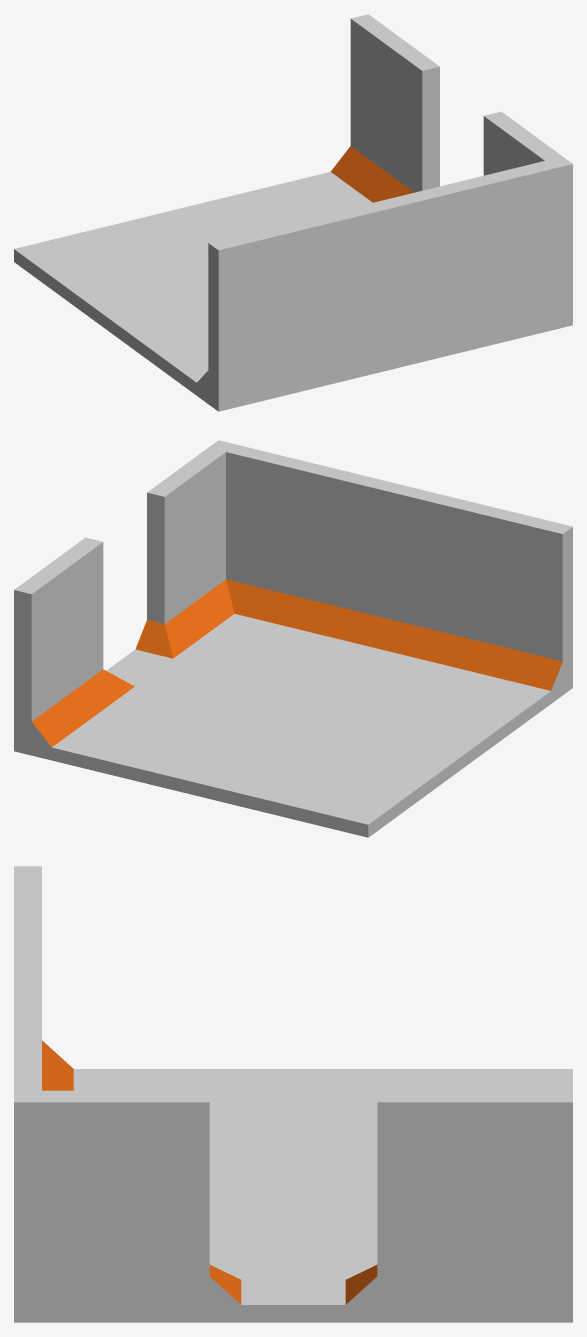
File: 2-wall-1-Door-L.fbx
3 renders of one model, top to bottom at view 1: azimuth 30°, elevation 25°; view 2: azimuth 150°, elevation 25°; view 3: azimuth 270°, elevation 25°, orthographic. The views are drawn at different scales.
Visible parts, largest first — view 1: Плоскость.026; view 2: Плоскость.026; view 3: Плоскость.026.
Boxes of the visible parts, x1,y1,x2,y2 form: Плоскость.026: [14, 14, 572, 411]; Плоскость.026: [14, 440, 572, 837]; Плоскость.026: [14, 866, 572, 1322].
Size of the model in its own units: 200 by 87 by 200.
